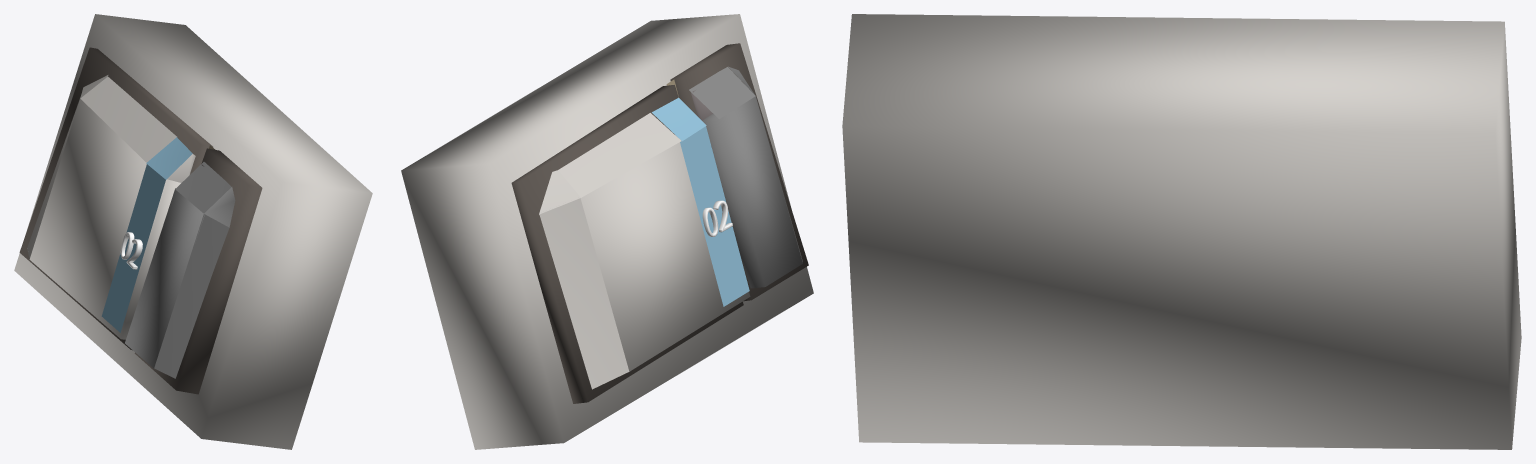
The model's file is Keycard Padlock L2 without indicator lights.fbx.
3 renders of one model, left to right at view 1: azimuth 30°, elevation 25°; view 2: azimuth 150°, elevation 25°; view 3: azimuth 270°, elevation 25°, orthographic. The views are drawn at different scales.
Parts seen in each view (by area): view 1: 96e65a0a-5867-4858-8a1c-5f719bd58280; view 2: 96e65a0a-5867-4858-8a1c-5f719bd58280; view 3: 96e65a0a-5867-4858-8a1c-5f719bd58280.
Boxes of the visible parts, box(x1,y1,x2,y2) form: 96e65a0a-5867-4858-8a1c-5f719bd58280: box(14, 14, 372, 449); 96e65a0a-5867-4858-8a1c-5f719bd58280: box(401, 14, 813, 449); 96e65a0a-5867-4858-8a1c-5f719bd58280: box(842, 14, 1521, 449).
Size of the model in its own units: 2112 by 2734 by 3910.
